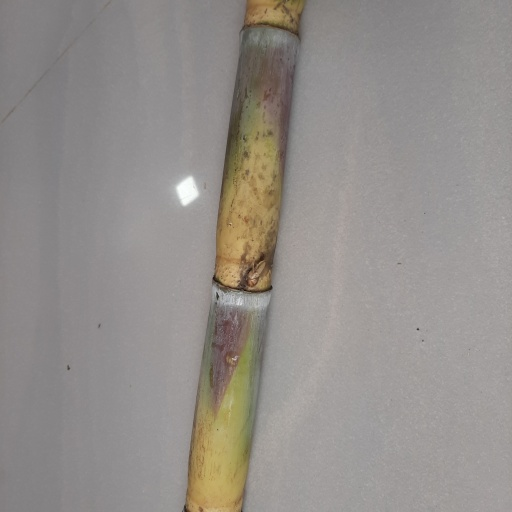Sprouted_Bud: (243, 260, 266, 289)
